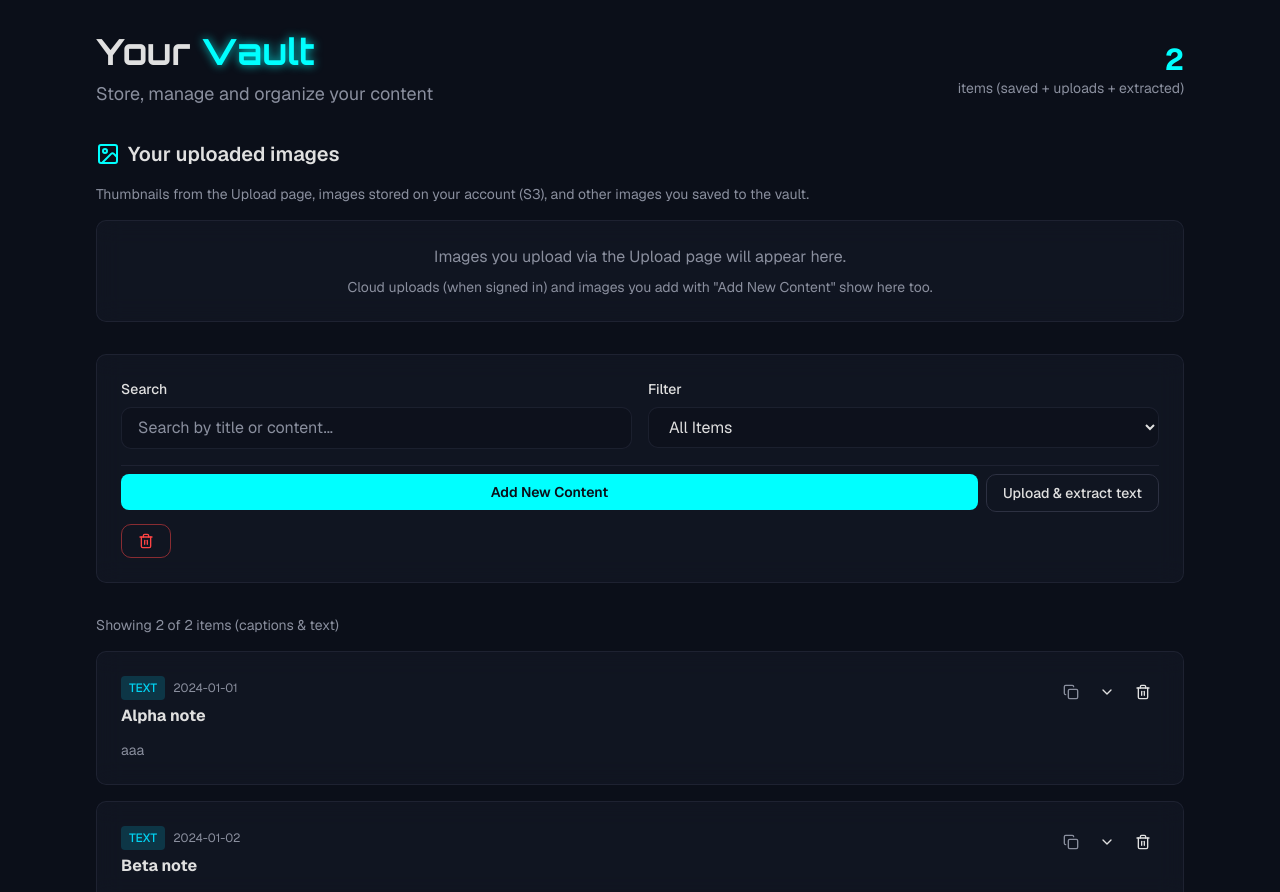
Test: VaultPage › filters text items by search query
The width and height of the screenshot is (1280, 892).
Type "Beta" into the field with placeholder "Search by title or content..." at (376, 428), box [121,407,632,449]
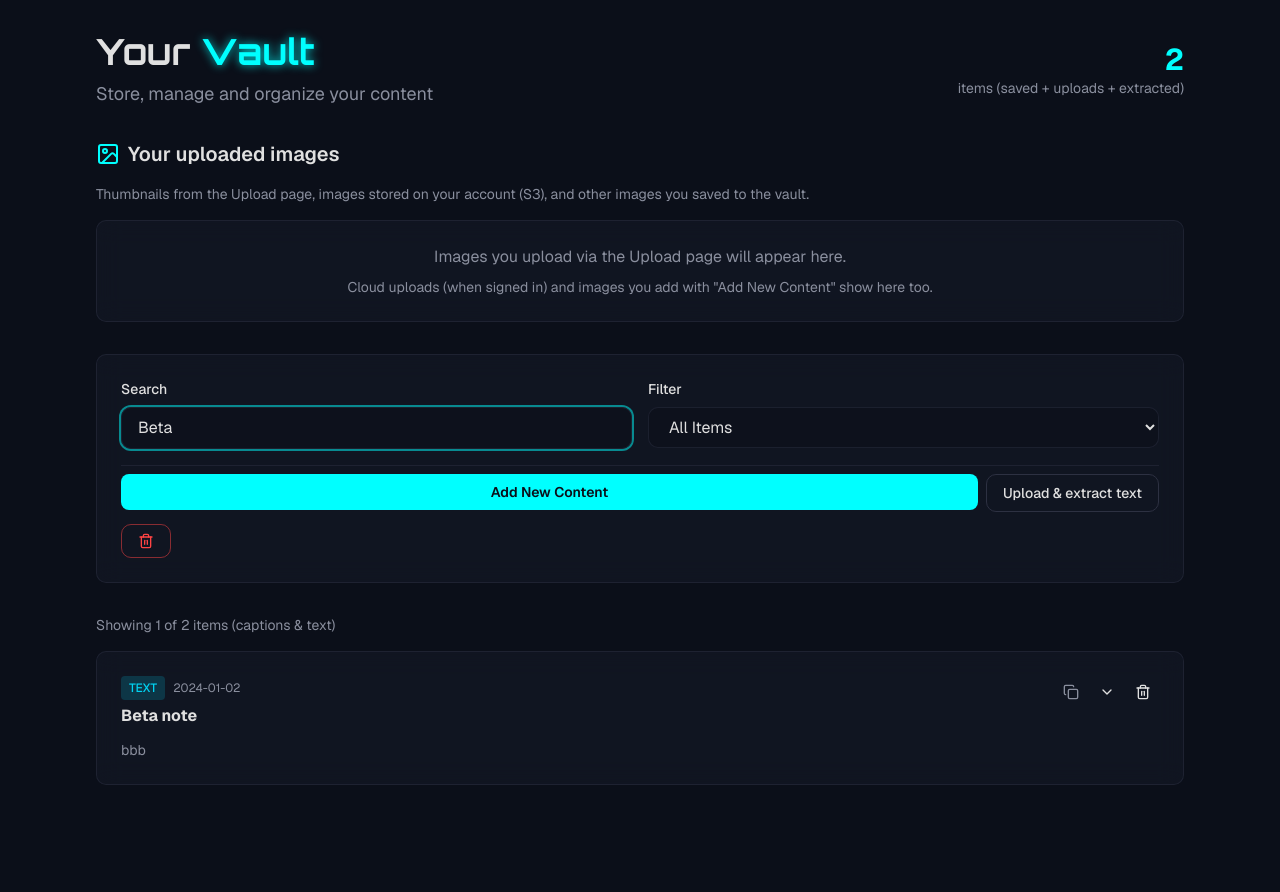
expect the text "Showing 1 of 2 items (captions & text)" is shown: met, box [96,616,336,634]
